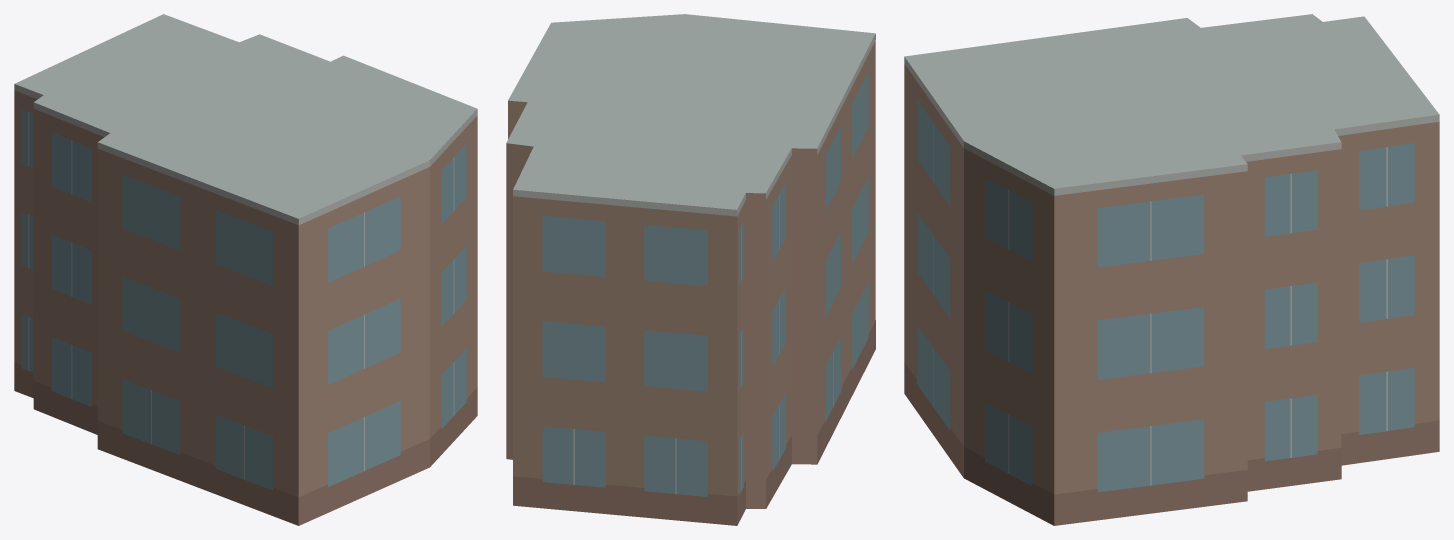
File: survey-upis-33012998.glb
3 renders of one model, left to right at view 1: azimuth 30°, elevation 25°; view 2: azimuth 150°, elevation 25°; view 3: azimuth 270°, elevation 25°, orthographic. The views are drawn at different scales.
Parts seen in each view (by area): view 1: survey-upis-33012998.tmp; view 2: survey-upis-33012998.tmp; view 3: survey-upis-33012998.tmp.
Boxes of the visible parts, x1,y1,x2,y2 form: survey-upis-33012998.tmp: (14,14,477,525); survey-upis-33012998.tmp: (506,14,875,525); survey-upis-33012998.tmp: (904,14,1439,525).
Size of the model in its own units: 13.03 by 11.7 by 16.85.
